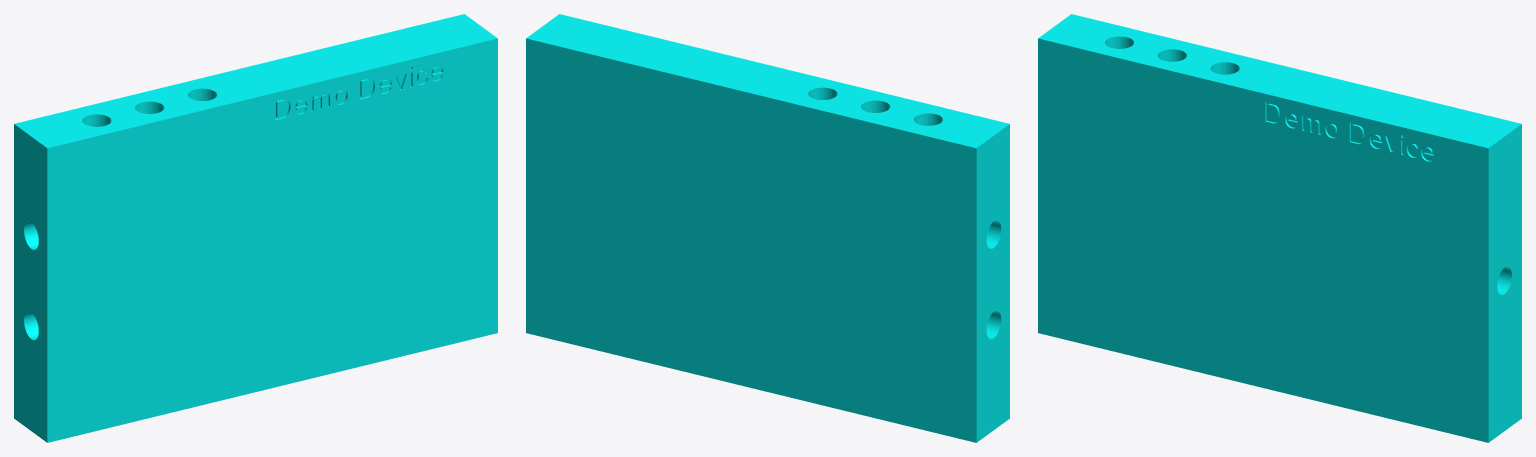
3 renders of one model, left to right at view 1: azimuth 30°, elevation 25°; view 2: azimuth 150°, elevation 25°; view 3: azimuth 330°, elevation 25°, orthographic.
Visible parts, largest first — view 1: world; view 2: world; view 3: world.
Boxes of the visible parts, x1,y1,x2,y2 form: world: [14, 14, 497, 442]; world: [526, 14, 1009, 442]; world: [1038, 14, 1521, 442].
Size of the model in its own units: 19.46 by 12.16 by 2.5.
